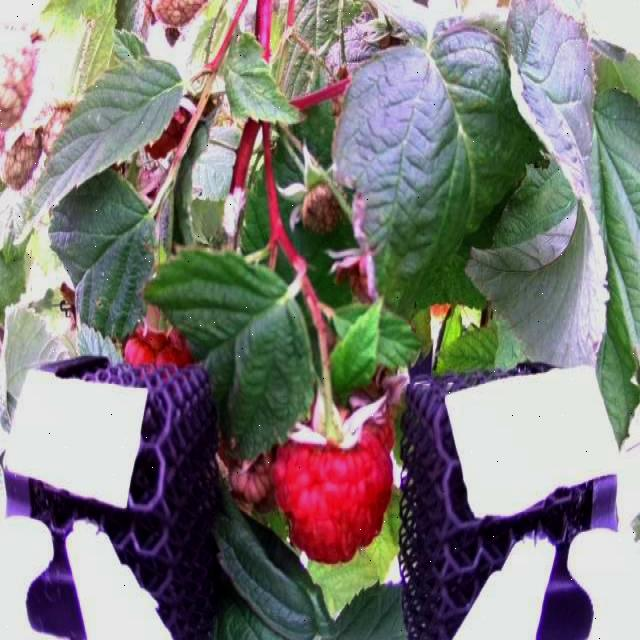Riped berries: (269, 393, 396, 564), (124, 316, 195, 366)
